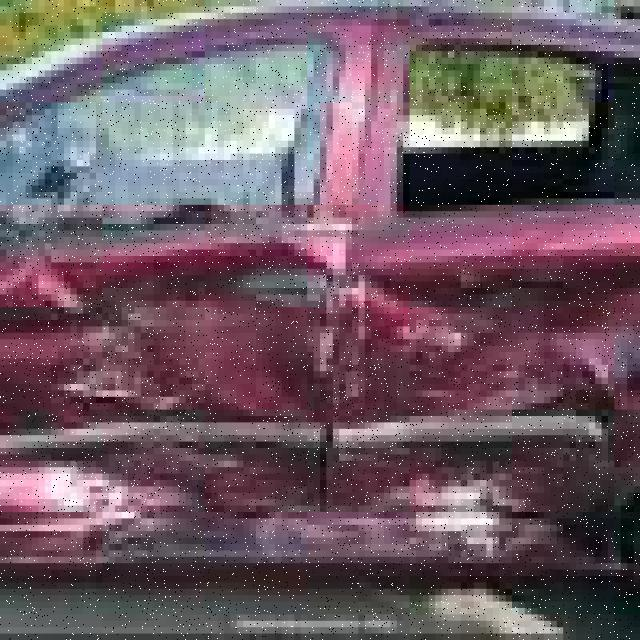doorouter-dent: (0, 237, 339, 570), (352, 231, 634, 570)
pillar-dent: (314, 32, 416, 230)
